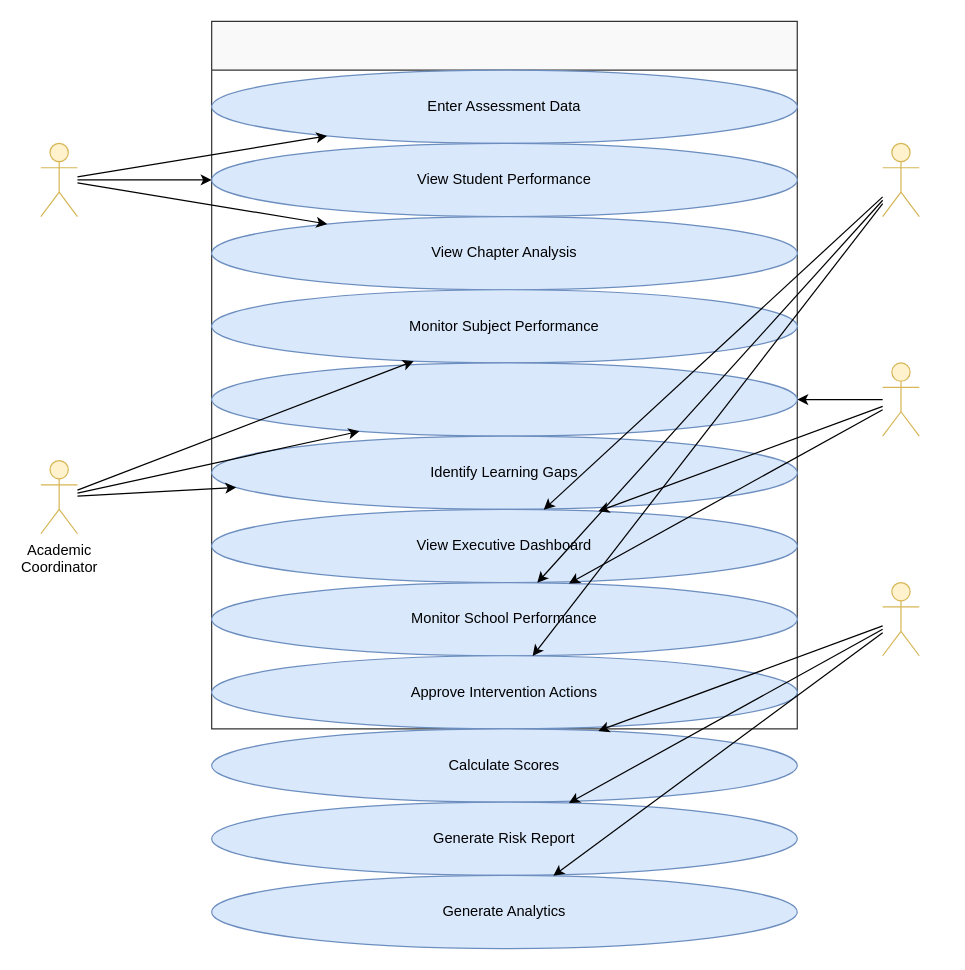
The diagram is 965 pixels wide and 970 high, and some of its shapes have lost their labels. Each missing label, with the box of its shape:
Generate Reports: (210, 362, 797, 436)
Principal: (881, 362, 919, 436)
School Management: (881, 142, 919, 217)
Student Performance Analytics Decision Support System: (210, 20, 797, 729)
System: (881, 581, 919, 656)
Teacher: (40, 142, 77, 217)
